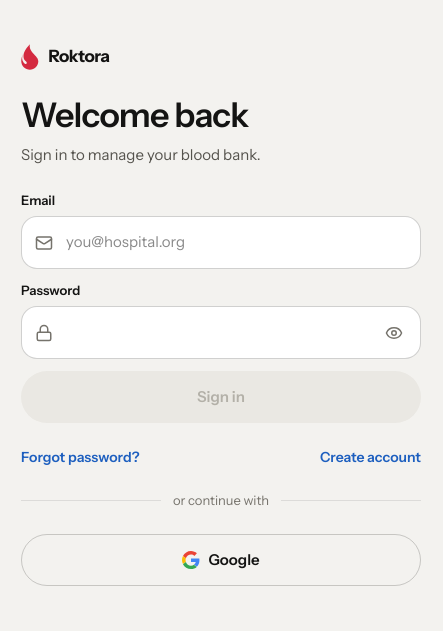
login page › shows a friendly message for a wrong password
This screenshot has width=443, height=631.
In the field labelled "Email": (221, 243) [21, 216, 421, 269], type "staff@hospital.org"
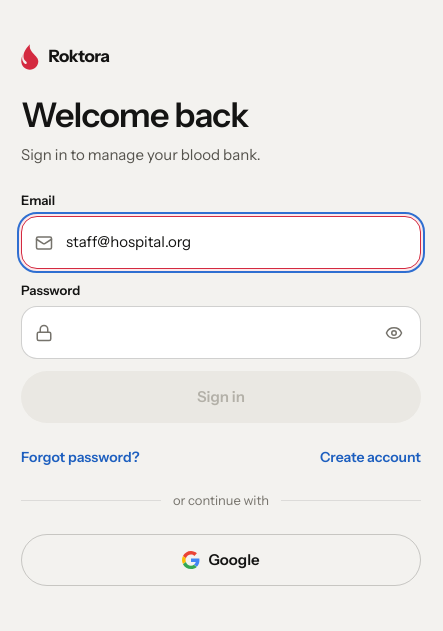
In the password field labelled "Password": (221, 333) [21, 306, 421, 359], type "wrongpass"
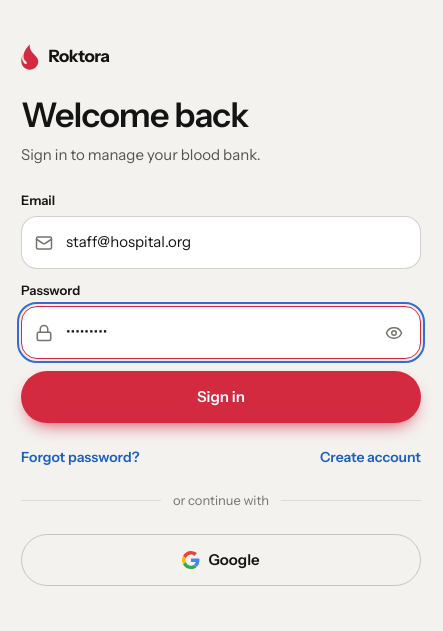
Click the button "Sign in": (221, 397) [21, 371, 421, 423]
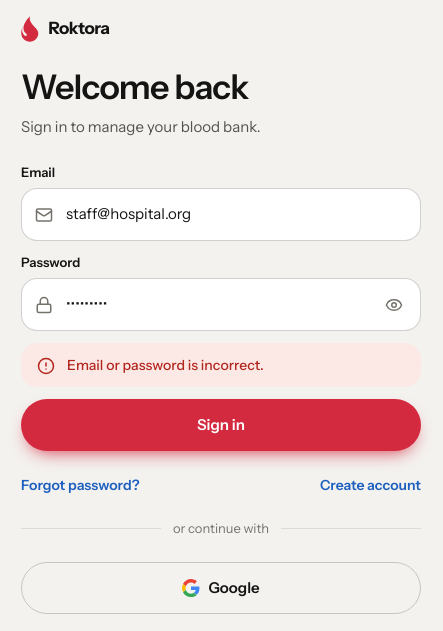
Result: the message reads "Email or password is incorrect." at [67, 356, 264, 374]
